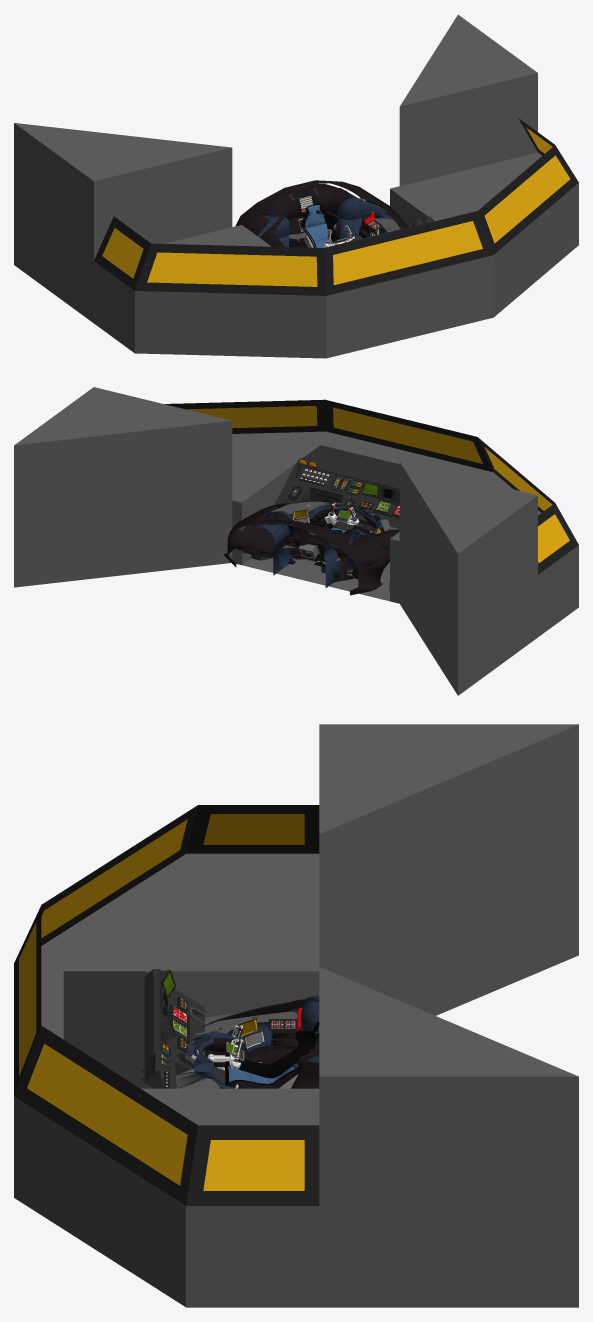
File: interior.glb
The picture shows the model from 3 angles, top to bottom: view 1: azimuth 30°, elevation 25°; view 2: azimuth 150°, elevation 25°; view 3: azimuth 270°, elevation 25°; orthographic projection. The views are drawn at different scales.
Visible parts, largest first — view 1: G-__576912_70, G-__576894_69, Componente#24.001_1, Componente#24_0, G-__559677_2, interio#1_579; view 2: G-__576912_70, G-__576894_69, G-__559677_2, G-__574248_14, Componente#24.001_1, Componente#24_0, G-__573924_9; view 3: G-__576912_70, G-__576894_69, G-__573924_9, G-__574248_14, Componente#24_0, interio#1_579, G-__559677_2, Componente#24.001_1, G-__574257_15.
Part boxes in pixels (bbox=[...]): G-__576912_70: bbox=[14, 14, 578, 358]; G-__576894_69: bbox=[94, 118, 578, 295]; Componente#24.001_1: bbox=[299, 184, 400, 240]; Componente#24_0: bbox=[257, 189, 307, 247]; G-__559677_2: bbox=[235, 180, 407, 246]; interio#1_579: bbox=[301, 204, 338, 247]; G-__576912_70: bbox=[14, 387, 578, 695]; G-__576894_69: bbox=[164, 399, 578, 574]; G-__559677_2: bbox=[223, 501, 399, 595]; G-__574248_14: bbox=[243, 445, 394, 573]; Componente#24.001_1: bbox=[250, 500, 356, 575]; Componente#24_0: bbox=[300, 508, 399, 587]; G-__573924_9: bbox=[346, 463, 399, 591]; G-__576912_70: bbox=[14, 724, 578, 1307]; G-__576894_69: bbox=[14, 805, 319, 1205]; G-__573924_9: bbox=[63, 969, 225, 1080]; G-__574248_14: bbox=[63, 1030, 225, 1088]; Componente#24_0: bbox=[189, 996, 319, 1070]; interio#1_579: bbox=[224, 1022, 319, 1088]; G-__559677_2: bbox=[202, 999, 319, 1088]; Componente#24.001_1: bbox=[176, 1050, 319, 1088]; G-__574257_15: bbox=[144, 1022, 167, 1088].
Size of the model in its own units: 7.95 by 2.43 by 5.39.
Materials: 46 (1 with a texture image).
